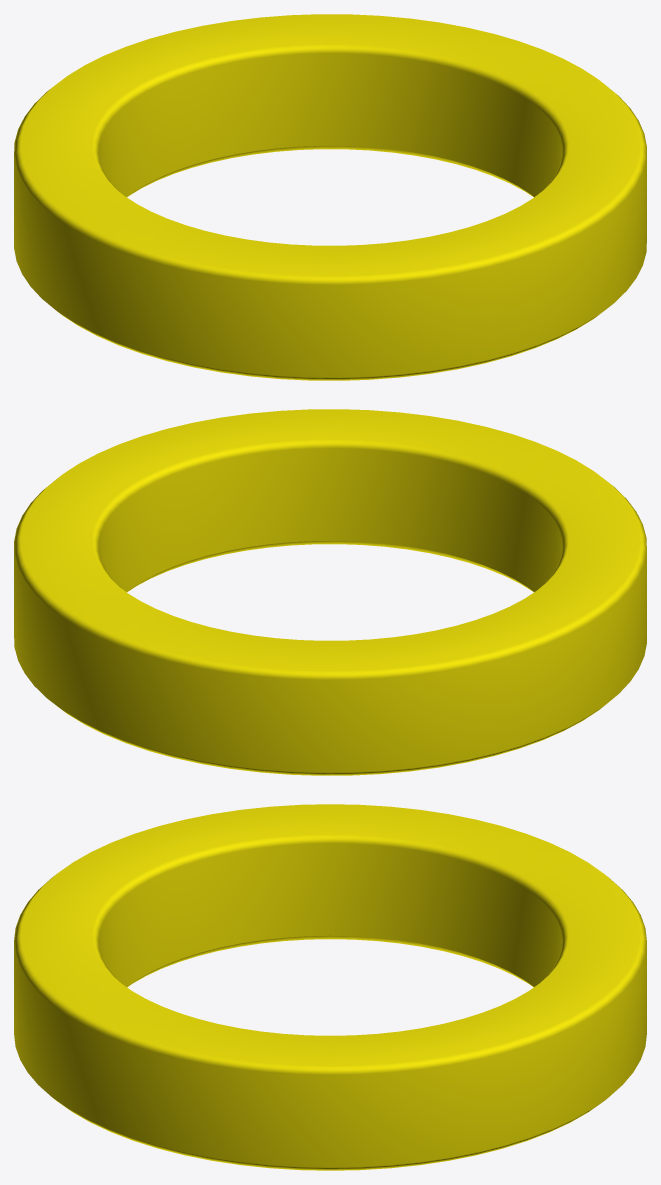
The picture shows the model from 3 angles, top to bottom: view 1: azimuth 30°, elevation 25°; view 2: azimuth 150°, elevation 25°; view 3: azimuth 270°, elevation 25°; orthographic projection.
Parts seen in each view (by area): view 1: seal_body; view 2: seal_body; view 3: seal_body.
Part boxes in pixels (x1,y1,x2,y2): seal_body: [14, 14, 646, 380]; seal_body: [14, 409, 646, 775]; seal_body: [14, 804, 646, 1170].
Size of the model in its own units: 0.041 by 0.0075 by 0.041.
